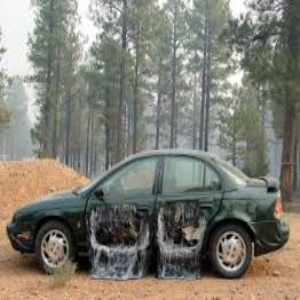door: (82, 204, 208, 272)
